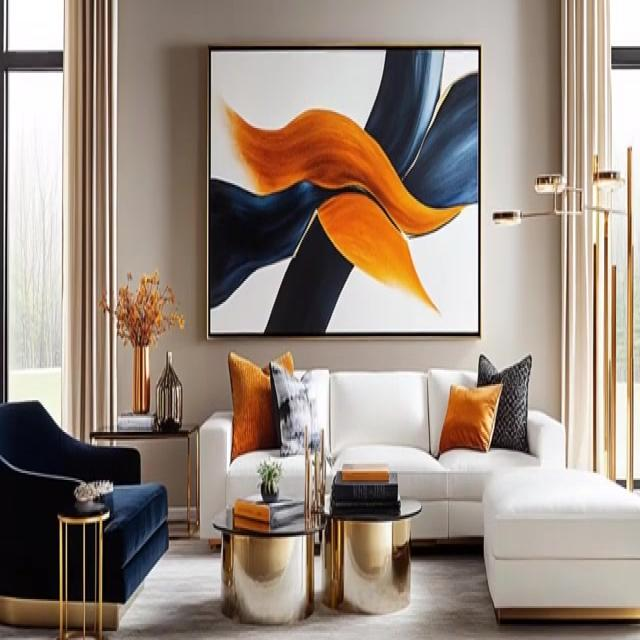obstacle: (198, 364, 566, 553), (0, 398, 169, 630), (213, 496, 423, 626), (89, 422, 199, 534)
